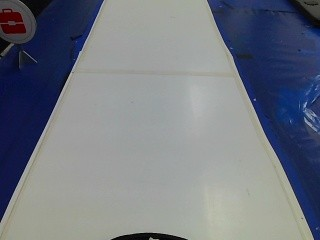company: (0, 0, 33, 46)
